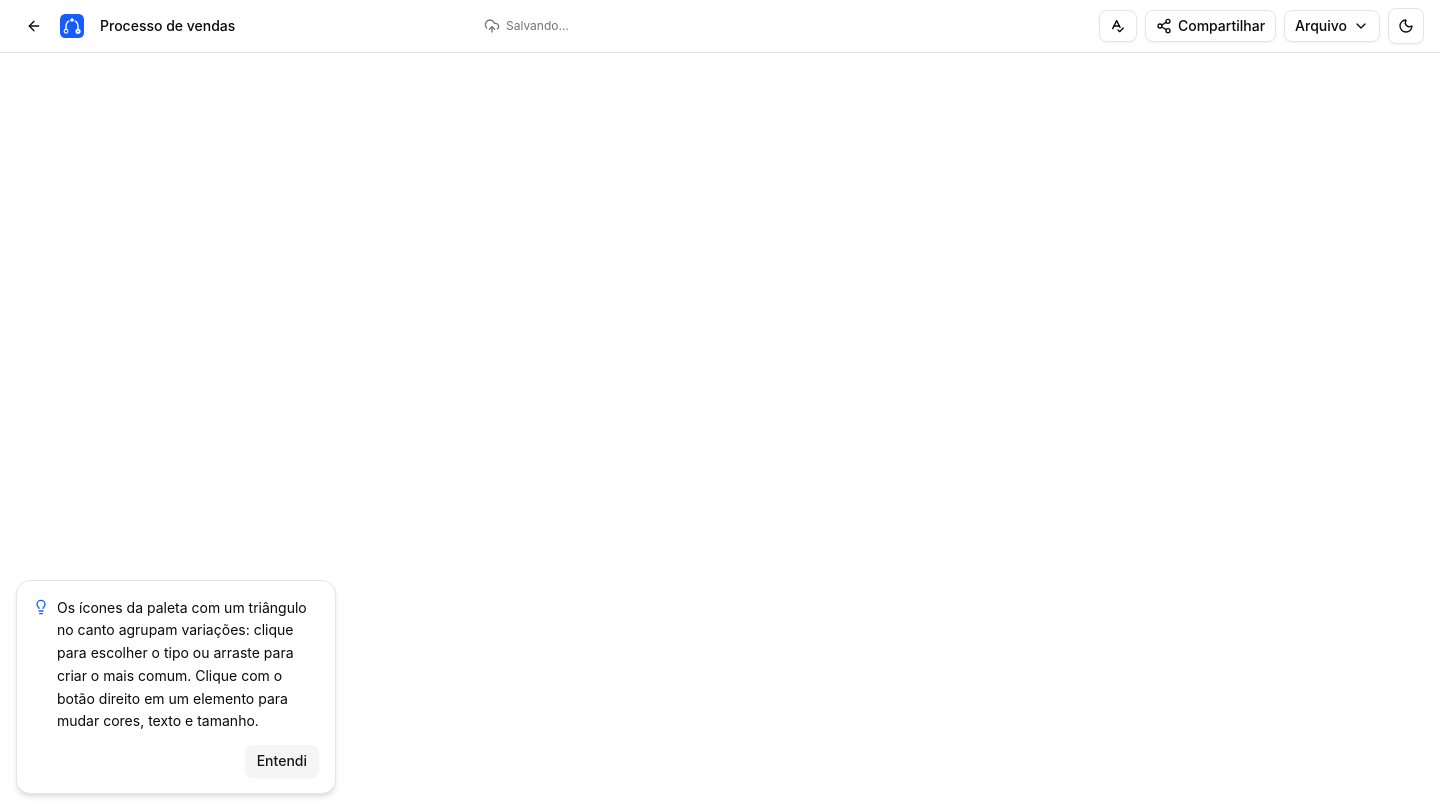
Scenario: BpmnEditor › wires the file menu exports to the hook handlers
The image size is (1440, 810).
Click the button "Arquivo" at (1332, 26), box [1284,10,1380,42]
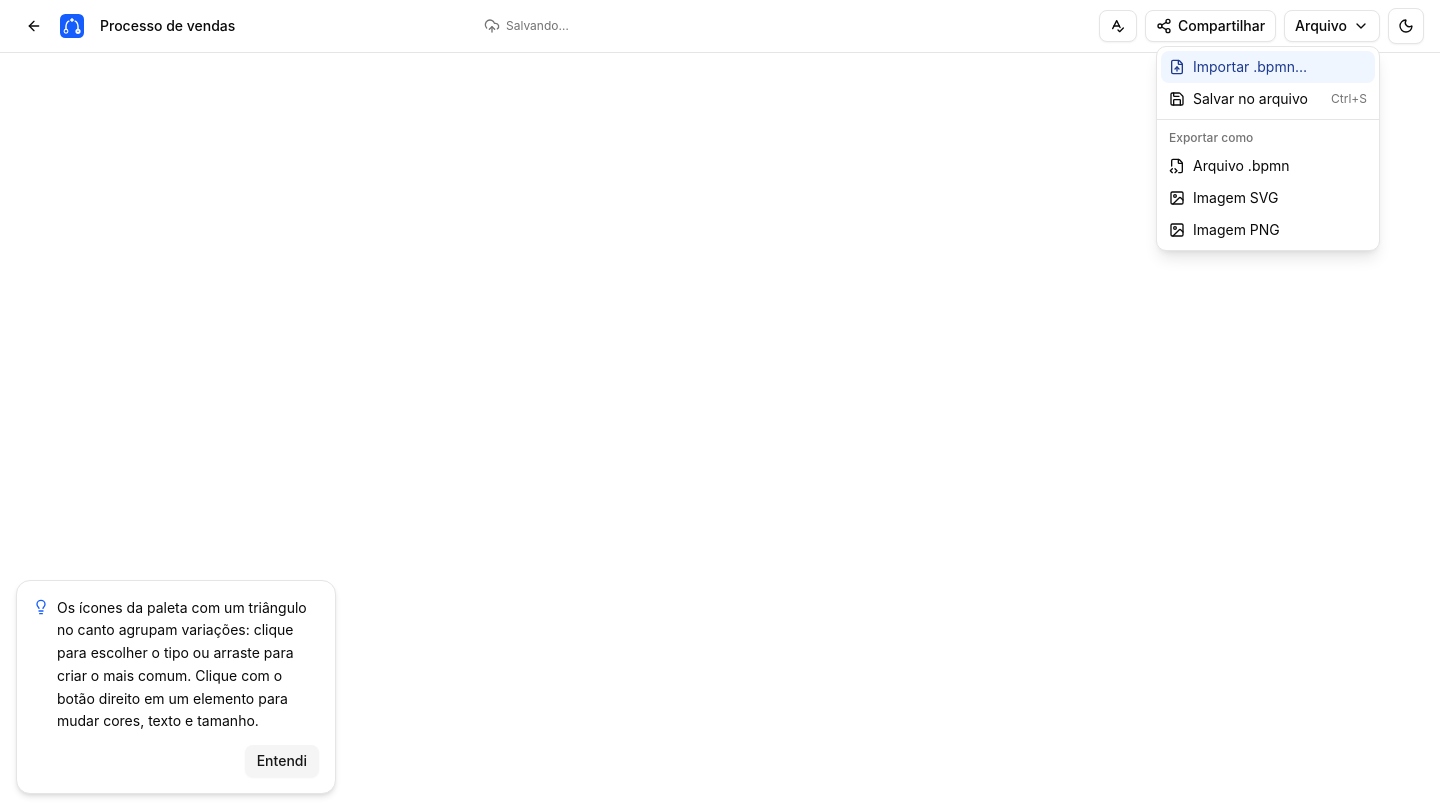
Click the menu item "Arquivo .bpmn" at (1268, 166), box [1161,150,1375,182]
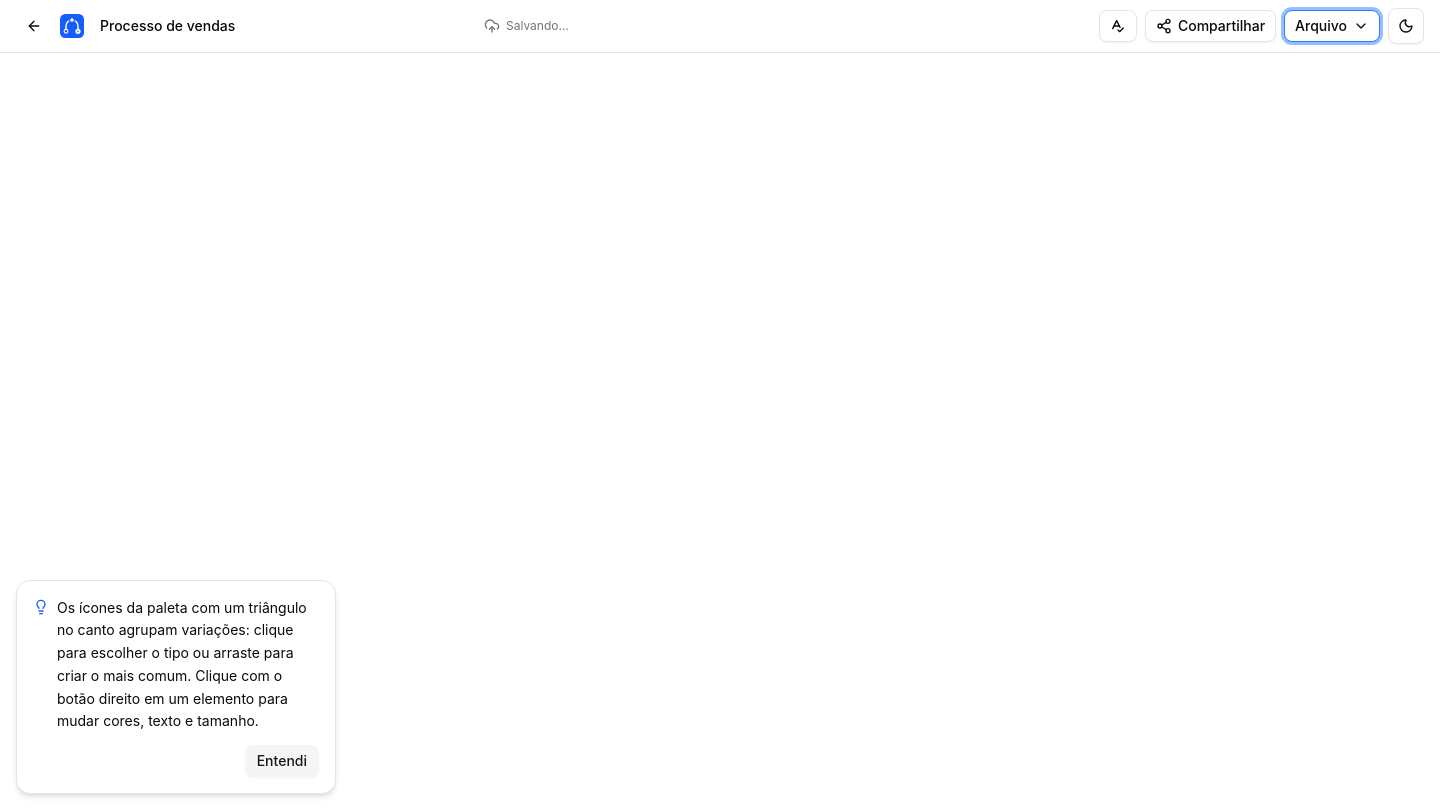
Click the button "Arquivo" at (1332, 26), box [1284,10,1380,42]
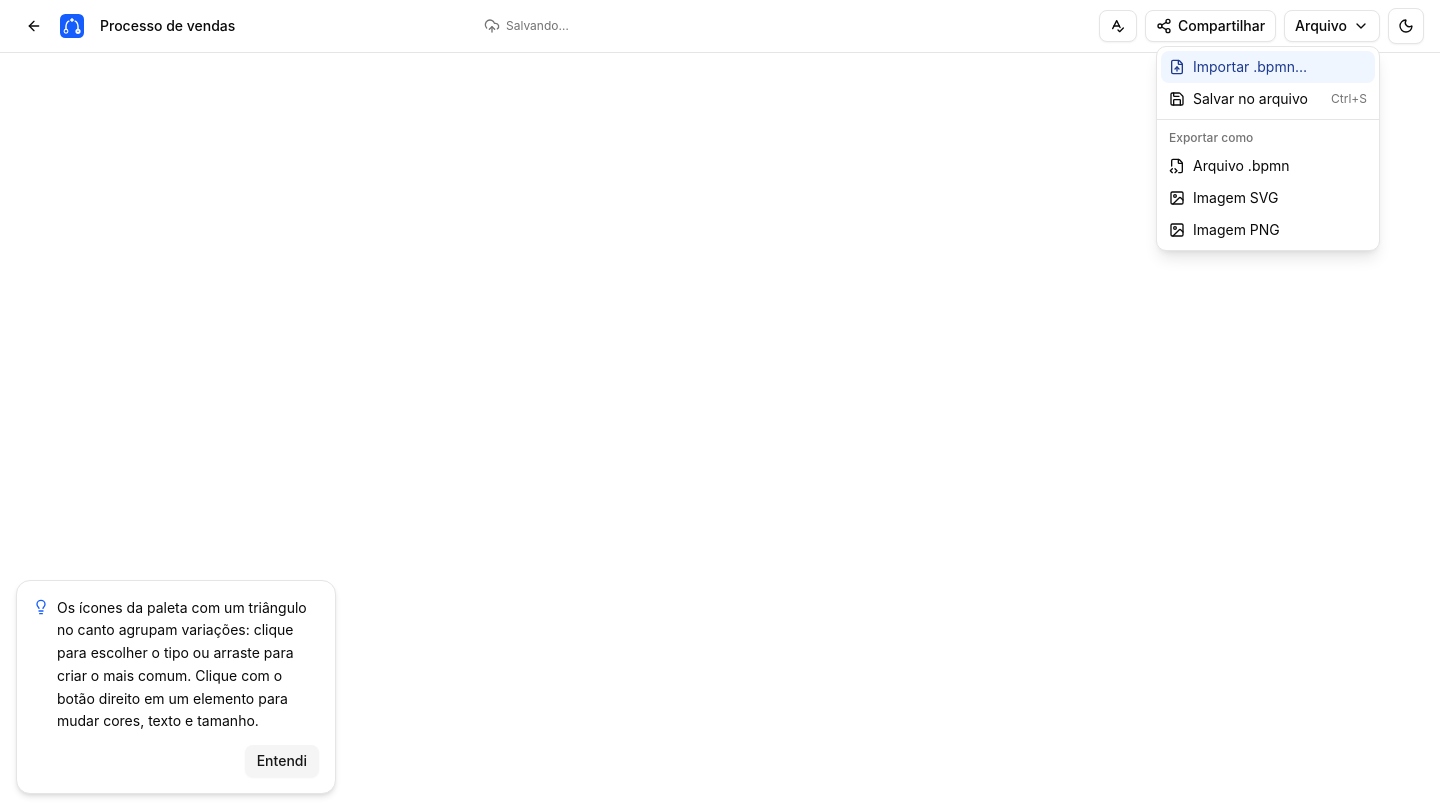
Click the menu item "Imagem SVG" at (1268, 198), box [1161,182,1375,214]
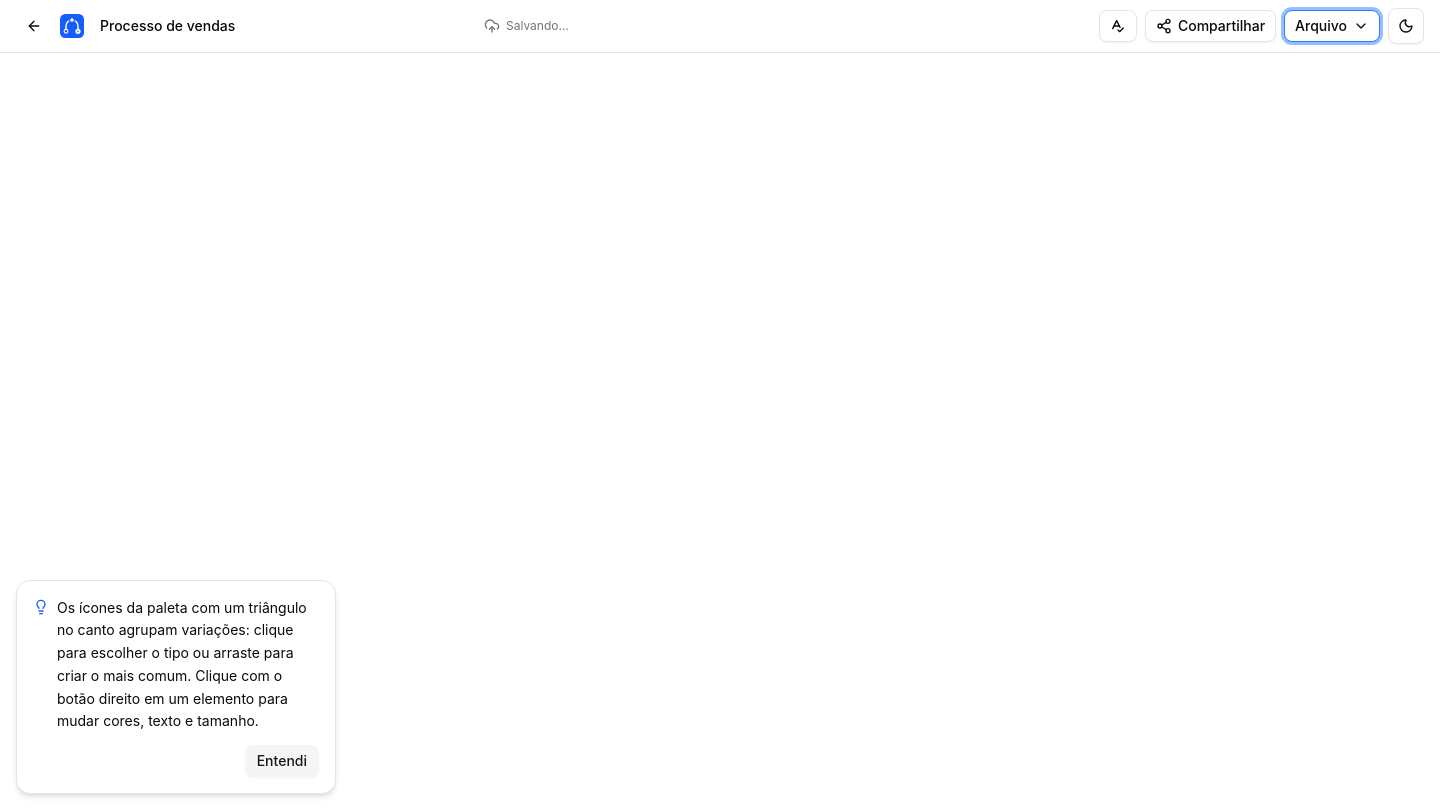
Click the button "Arquivo" at (1332, 26), box [1284,10,1380,42]
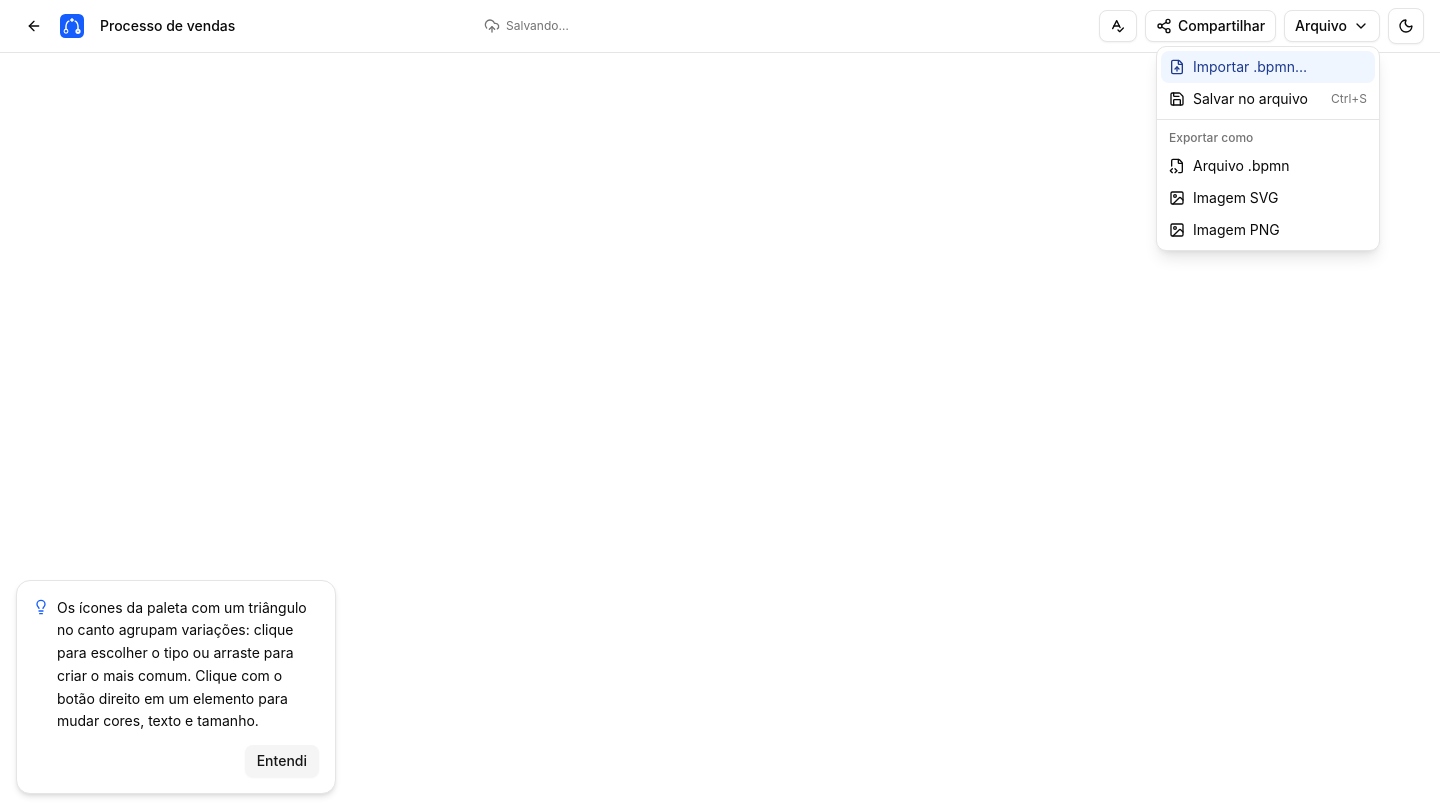
Click the menu item "Imagem PNG" at (1268, 230), box [1161,214,1375,246]
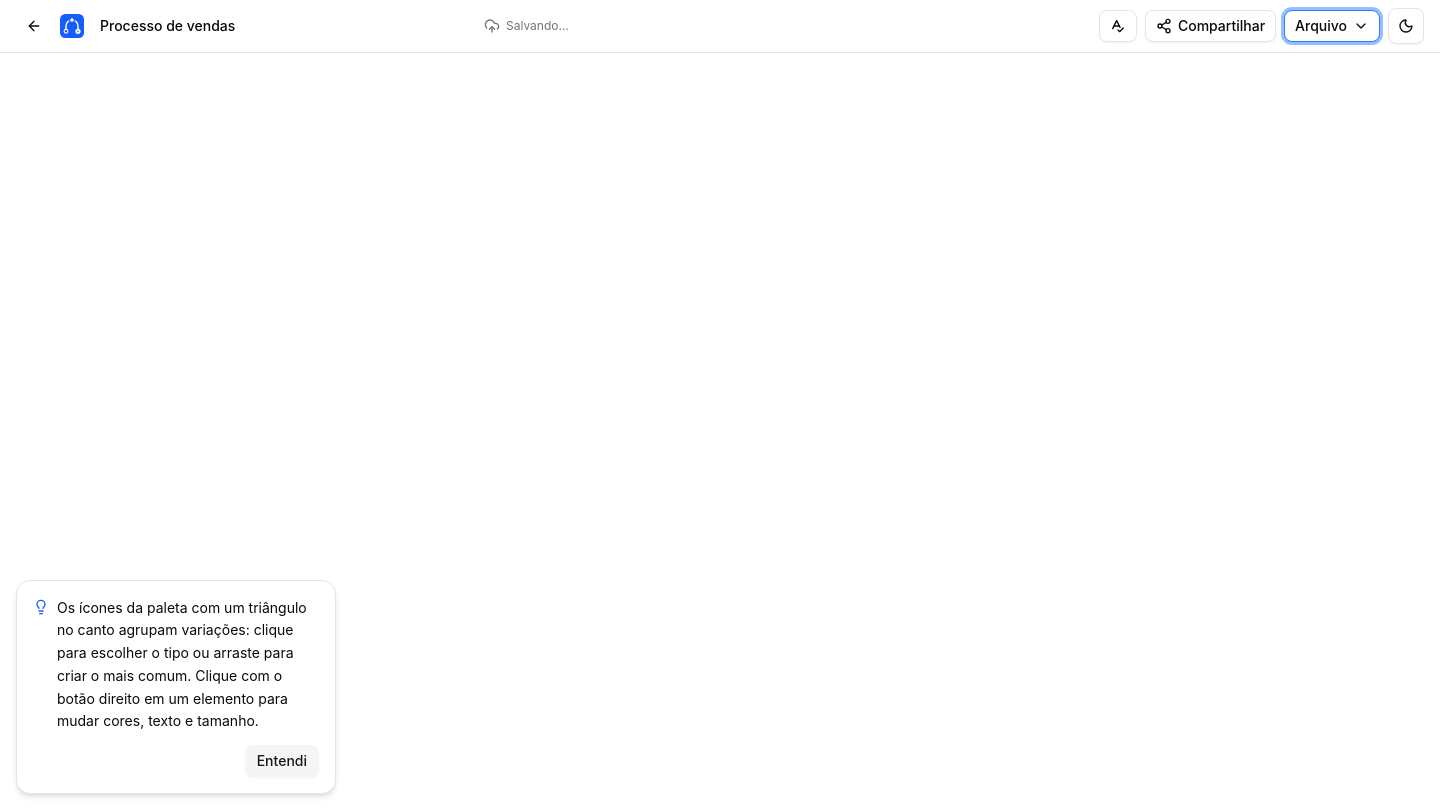
Check: the menu is gone
